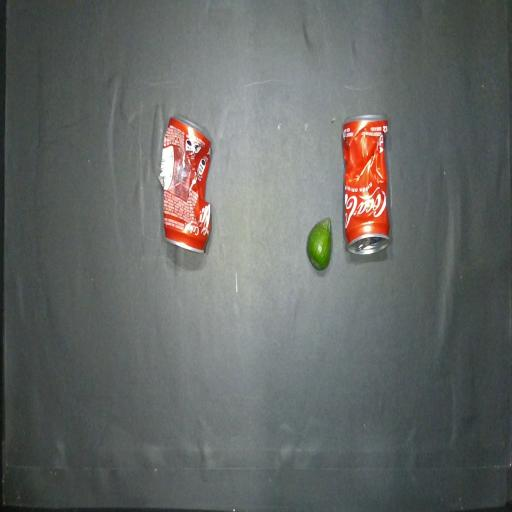higo: (307, 218, 332, 271)
lata_defectuoso: (159, 116, 211, 252), (343, 115, 389, 254)
